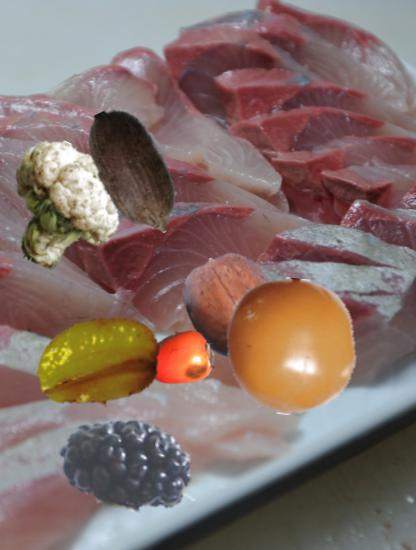Carambula: (36, 300, 164, 428)
Cauliflower: (0, 146, 127, 273)
Kaki: (145, 321, 217, 393)
Mulberry: (59, 377, 207, 525)
Nut: (65, 105, 201, 241), (179, 253, 287, 361)
Tomato: (223, 278, 361, 416)
